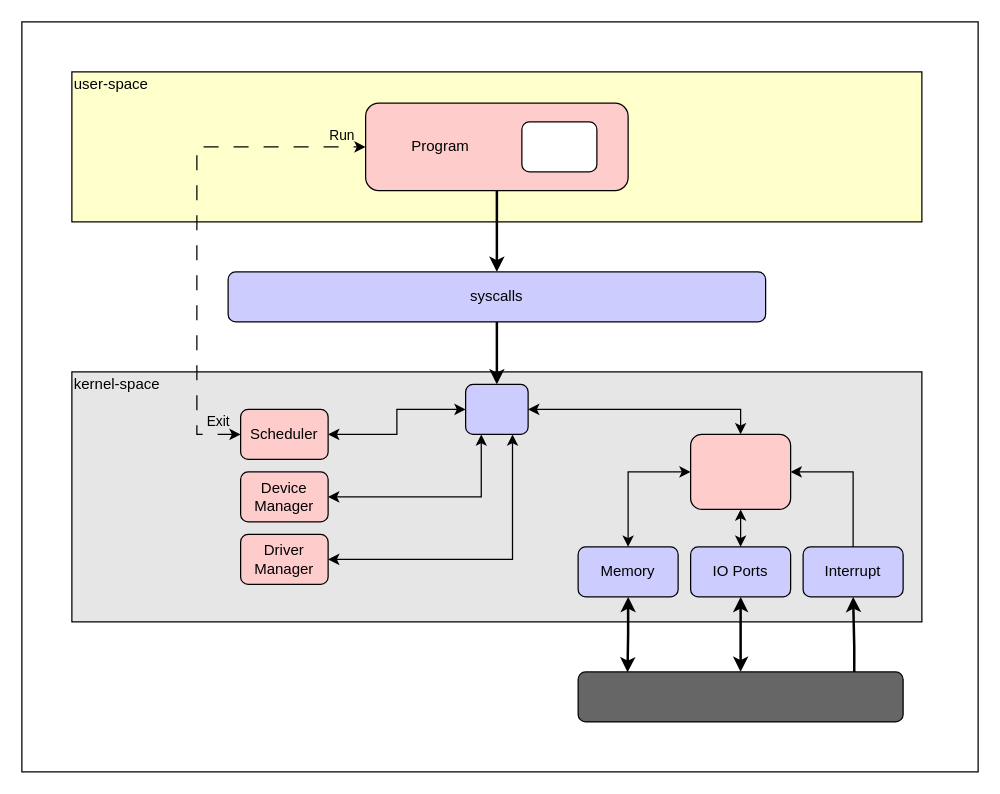
Some shapes in this 1000 by 794 pixel diagram are drawn without their labels. Here are the shapes that lost their labels. From the top down, the centre of each, then its label:
At point (559, 146): "Libraries".
At point (496, 408): "API".
At point (740, 471): "Driver".
At point (740, 696): "Device".
